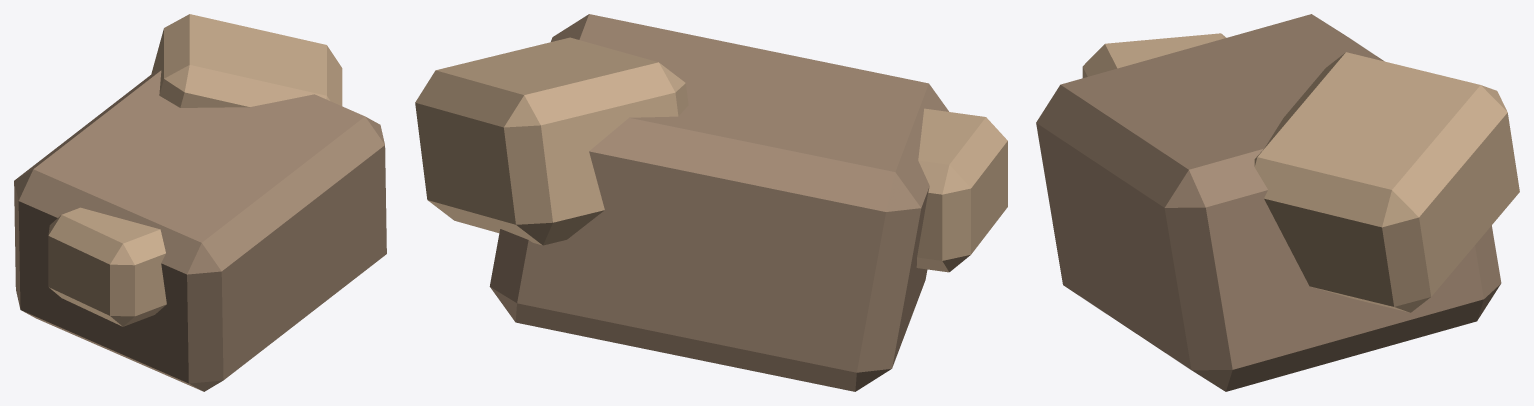
File: prop_rock.glb
3 renders of one model, left to right at view 1: azimuth 30°, elevation 25°; view 2: azimuth 150°, elevation 25°; view 3: azimuth 270°, elevation 25°, orthographic. The views are drawn at different scales.
Visible parts, largest first — view 1: Cube, Cube.001, Cube.002; view 2: Cube, Cube.001, Cube.002; view 3: Cube, Cube.001, Cube.002.
Boxes of the visible parts, x1,y1,x2,y2 form: Cube: [14, 70, 386, 391]; Cube.001: [151, 14, 342, 107]; Cube.002: [48, 207, 166, 326]; Cube: [489, 14, 948, 391]; Cube.001: [415, 37, 688, 245]; Cube.002: [916, 108, 1007, 272]; Cube: [1036, 14, 1501, 391]; Cube.001: [1254, 52, 1519, 312]; Cube.002: [1082, 33, 1226, 77].
Bounding box in the file's own units: 1.17 × 0.7391 × 1.06.
